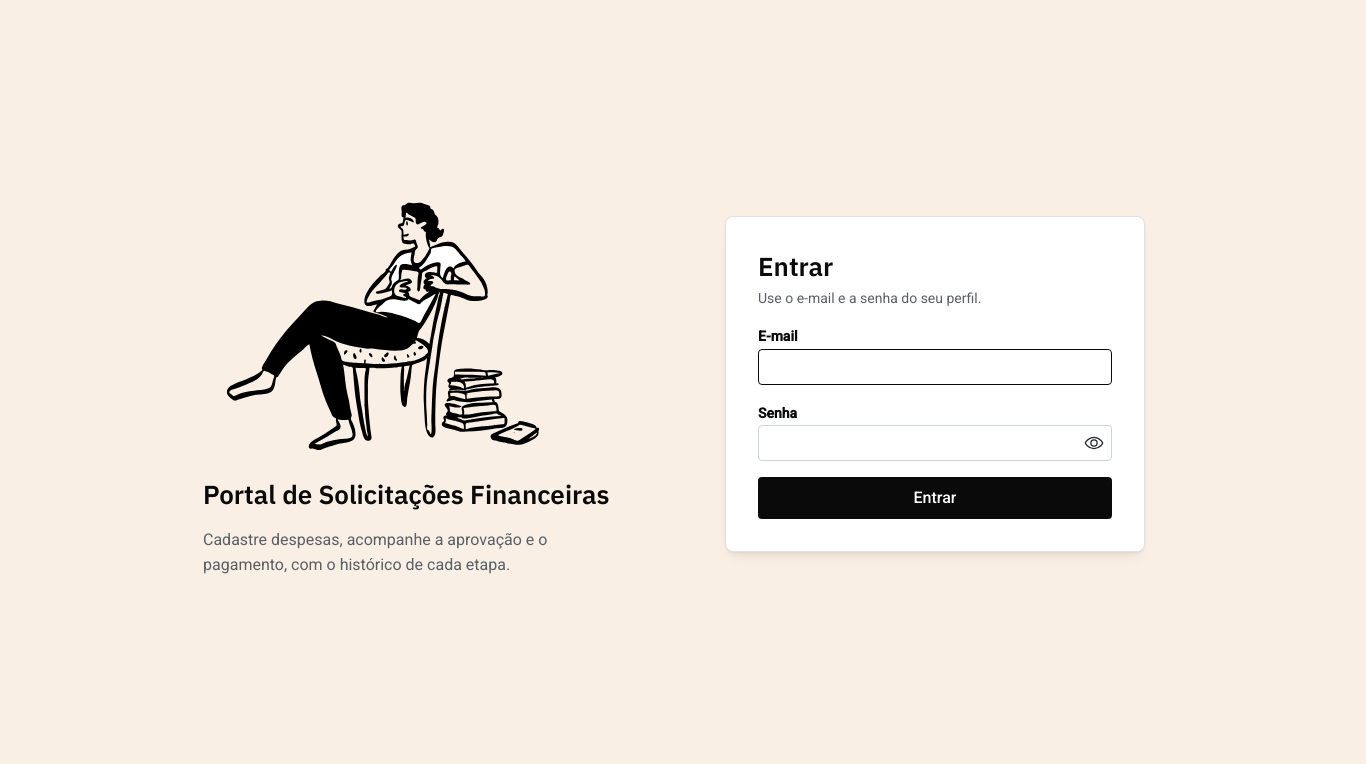
Test: LoginPage › a valid login goes to the page the user tried to open
Step 1. Type "financeiro@gex.test" into the field labelled "E-mail" → (935, 367), box [758, 349, 1112, 385]
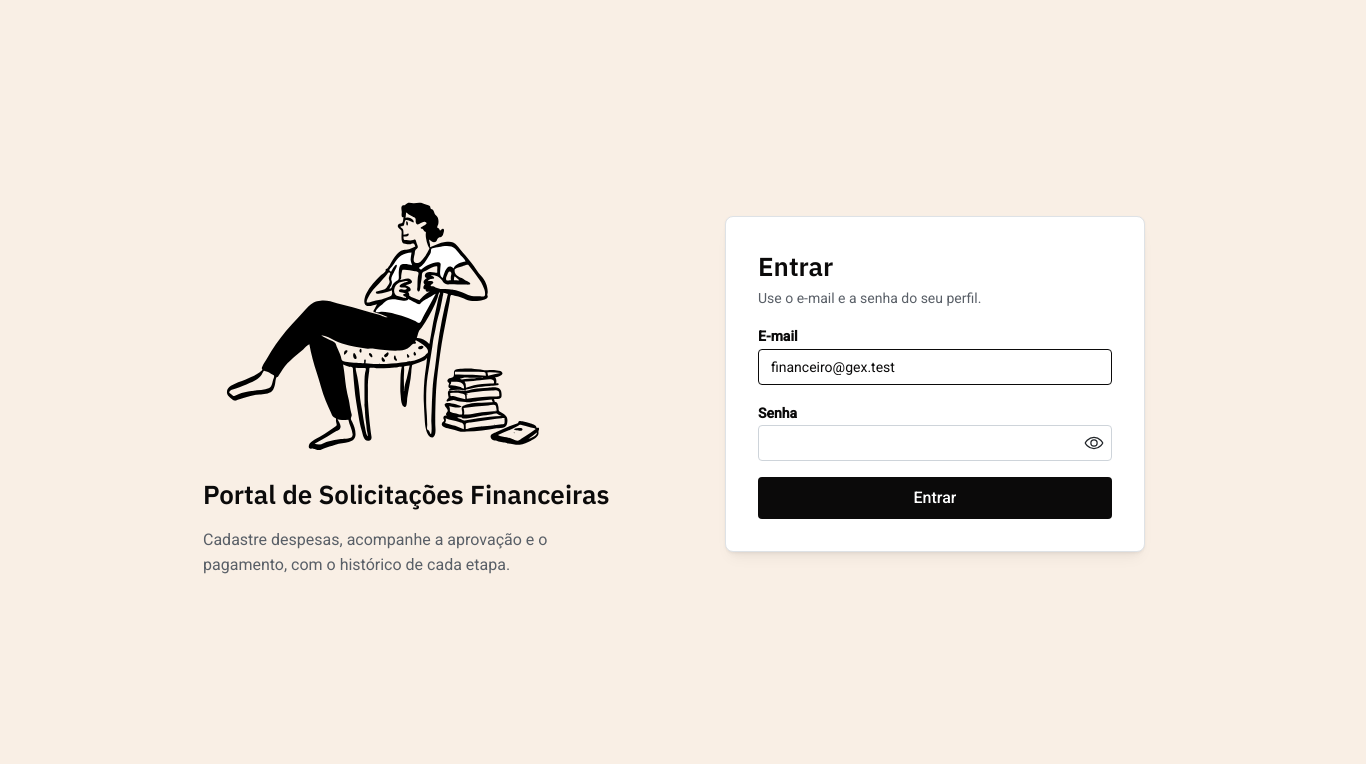
Step 2. Type "GexFinance123!" into the password field labelled "Senha" → (935, 444), box [759, 426, 1111, 460]
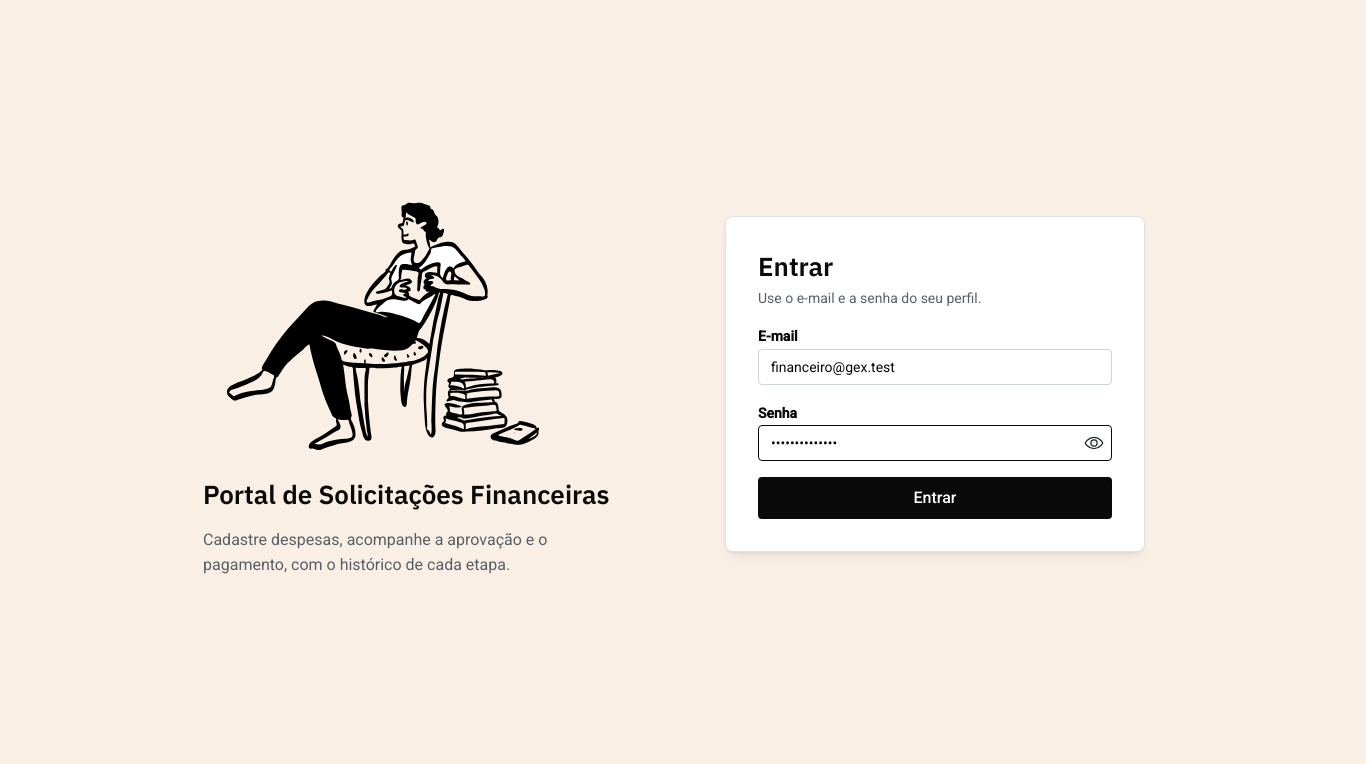
Step 3. Click the button "Entrar" → (935, 498), box [758, 478, 1112, 520]
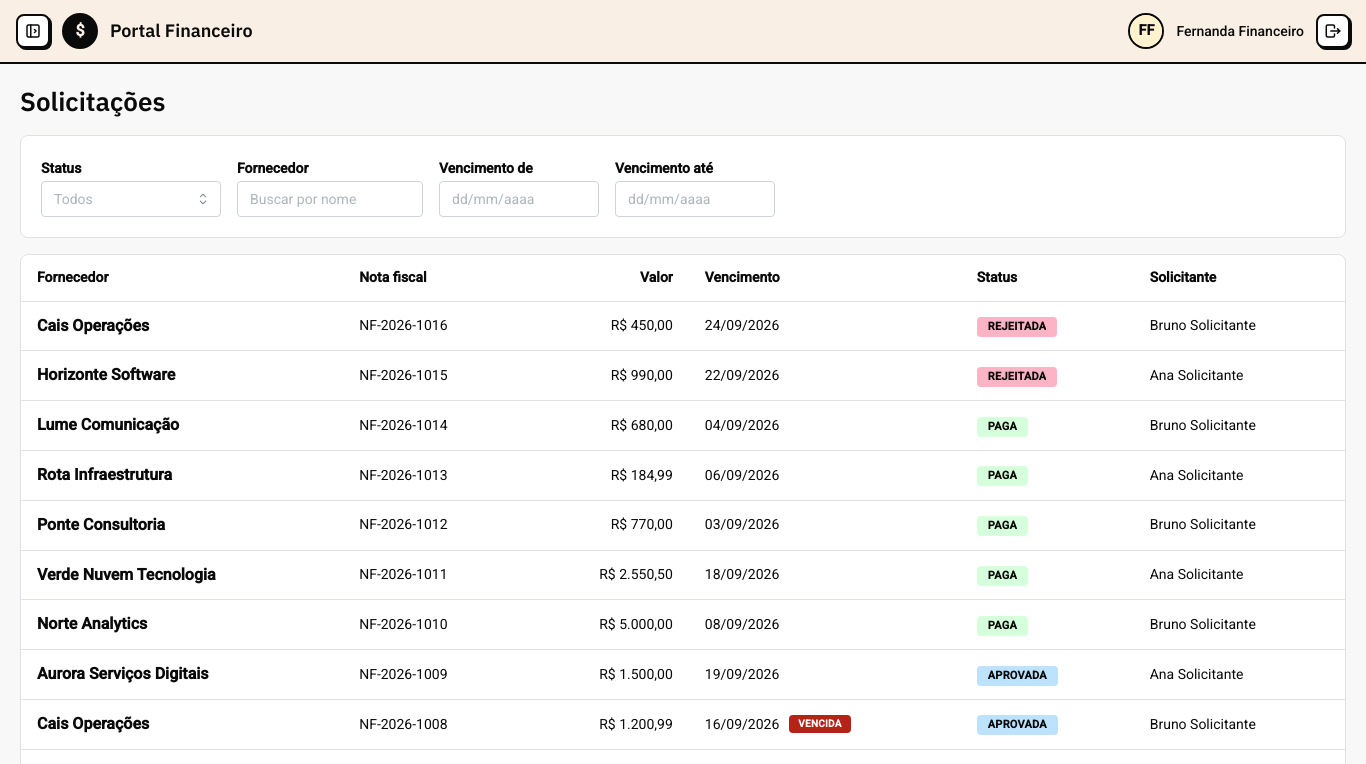
Expected: the text "Fernanda Financeiro" is shown, [1176, 21, 1304, 41]
